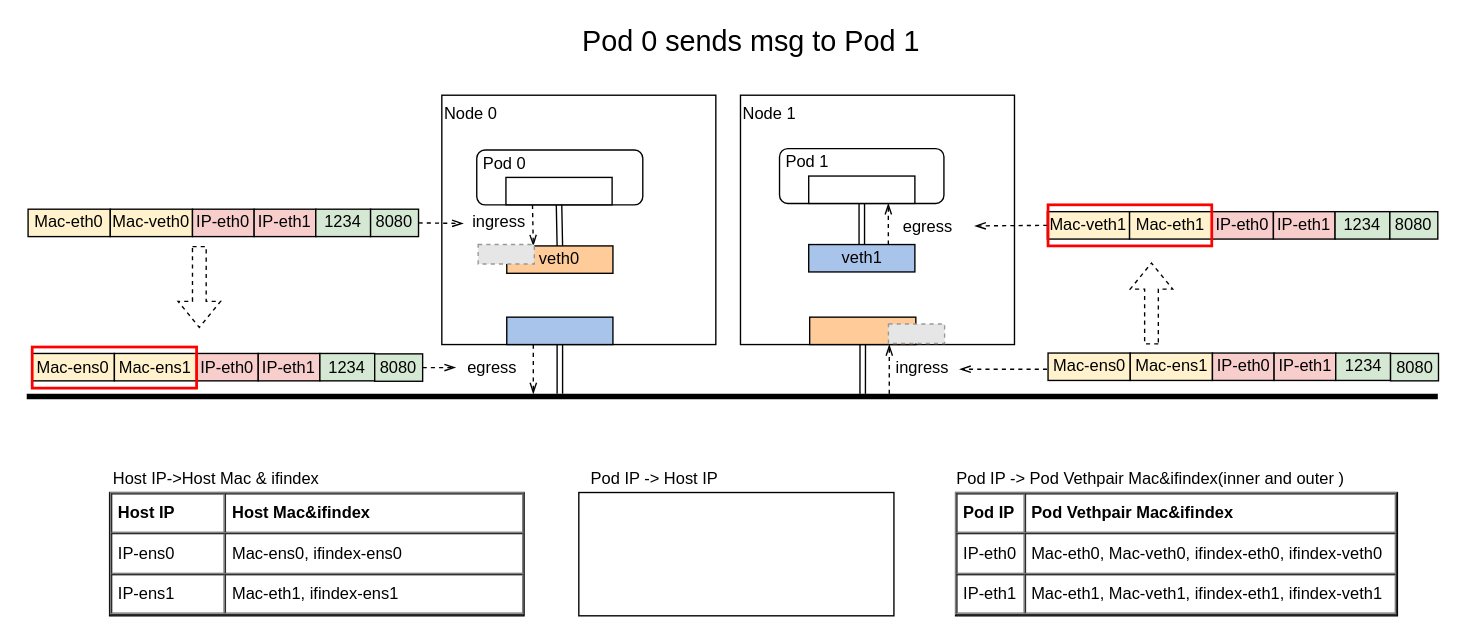
Some shapes in this 1463 by 640 pixel diagram are drawn without their labels. Grey dashed boxes stand in for pictures. The centre of each missing label's shape, as x and y in pixels:
"ens0" goes at [559,330].
"ens1" goes at [862,330].
"eth0" goes at [558,190].
"eth1" goes at [861,189].
"Pod IP Host IP IP-eth0 IP-ens0 IP-eth1 IP-ens1" goes at [735,553].
